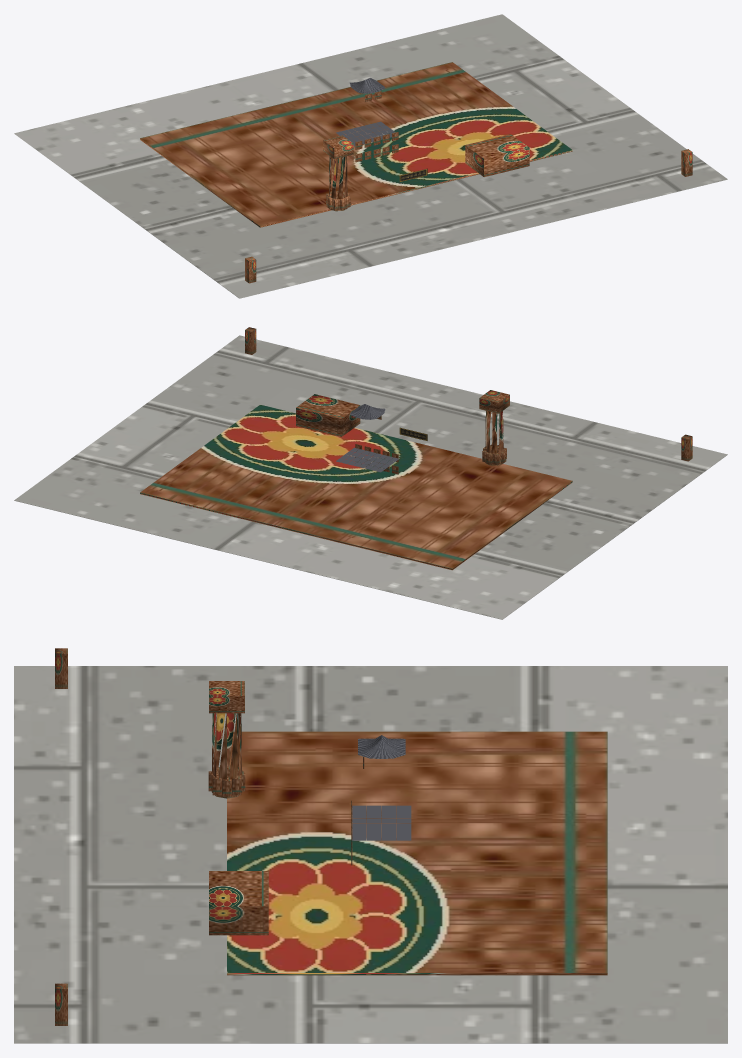
The picture shows the model from 3 angles, top to bottom: view 1: azimuth 30°, elevation 25°; view 2: azimuth 150°, elevation 25°; view 3: azimuth 270°, elevation 25°; orthographic projection. The views are drawn at different scales.
Parts seen in each view (by area): view 1: 11710_01_05719_043_01_L2__base, 11710_01_05719_043_02_L2__body, 11710_01_05719_043_03_L2__roof, 11710_01_05719_043_05_L2__openings, 11710_01_05719_043_06_L2__green; view 2: 11710_01_05719_043_01_L2__base, 11710_01_05719_043_02_L2__body, 11710_01_05719_043_03_L2__roof, 11710_01_05719_043_06_L2__green; view 3: 11710_01_05719_043_01_L2__base, 11710_01_05719_043_02_L2__body, 11710_01_05719_043_03_L2__roof, 11710_01_05719_043_06_L2__green.
Boxes of the visible parts, box(x1,y1,x2,y2) form: 11710_01_05719_043_01_L2__base: box(14, 14, 727, 298); 11710_01_05719_043_02_L2__body: box(140, 62, 572, 227); 11710_01_05719_043_03_L2__roof: box(336, 78, 395, 146); 11710_01_05719_043_05_L2__openings: box(355, 91, 398, 162); 11710_01_05719_043_06_L2__green: box(245, 149, 692, 283); 11710_01_05719_043_01_L2__base: box(14, 335, 727, 619); 11710_01_05719_043_02_L2__body: box(140, 390, 572, 570); 11710_01_05719_043_03_L2__roof: box(336, 404, 399, 472); 11710_01_05719_043_06_L2__green: box(245, 327, 692, 461); 11710_01_05719_043_01_L2__base: box(14, 666, 727, 1043); 11710_01_05719_043_02_L2__body: box(208, 681, 607, 975); 11710_01_05719_043_03_L2__roof: box(352, 735, 411, 840); 11710_01_05719_043_06_L2__green: box(55, 648, 67, 1025).
Size of the model in its own units: 150 by 21.9 by 120.
5 materials, 5 textured.
